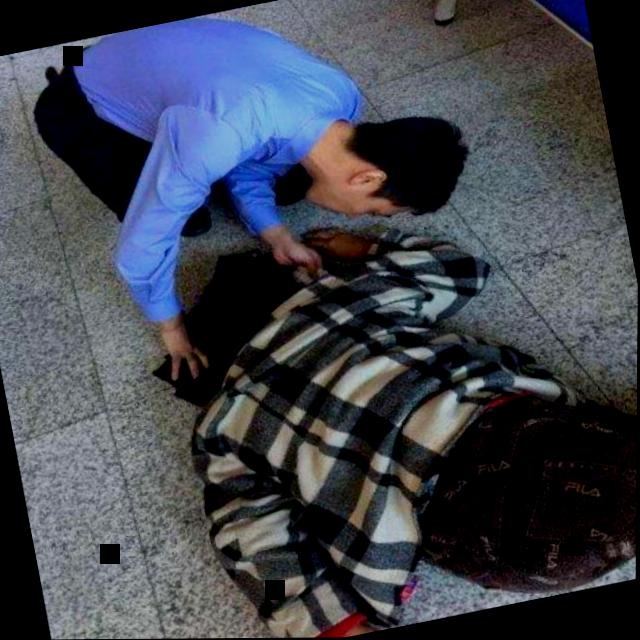Fall-Detected: (133, 130, 639, 639)
